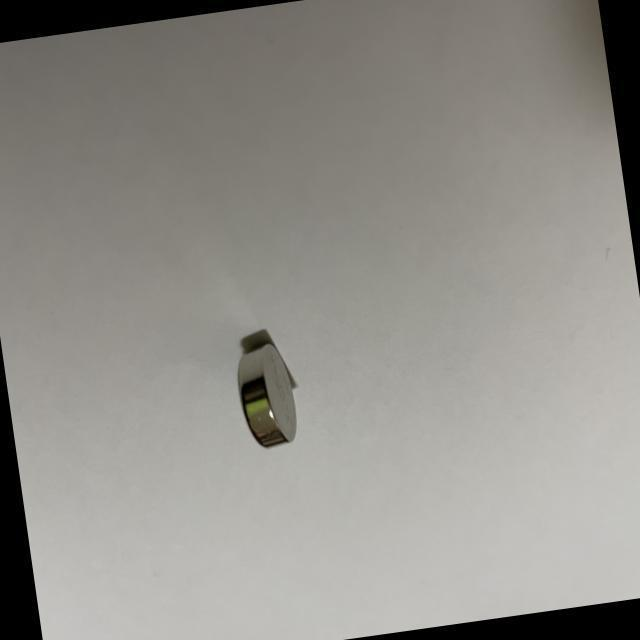COIN: (232, 337, 300, 452)
